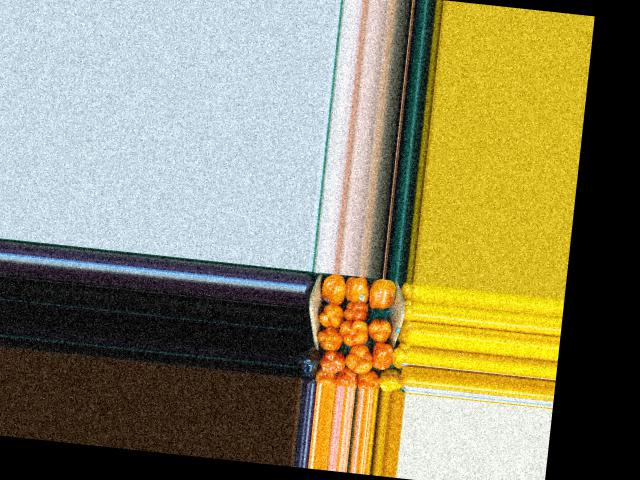bell_pepper: (391, 338, 409, 370)
